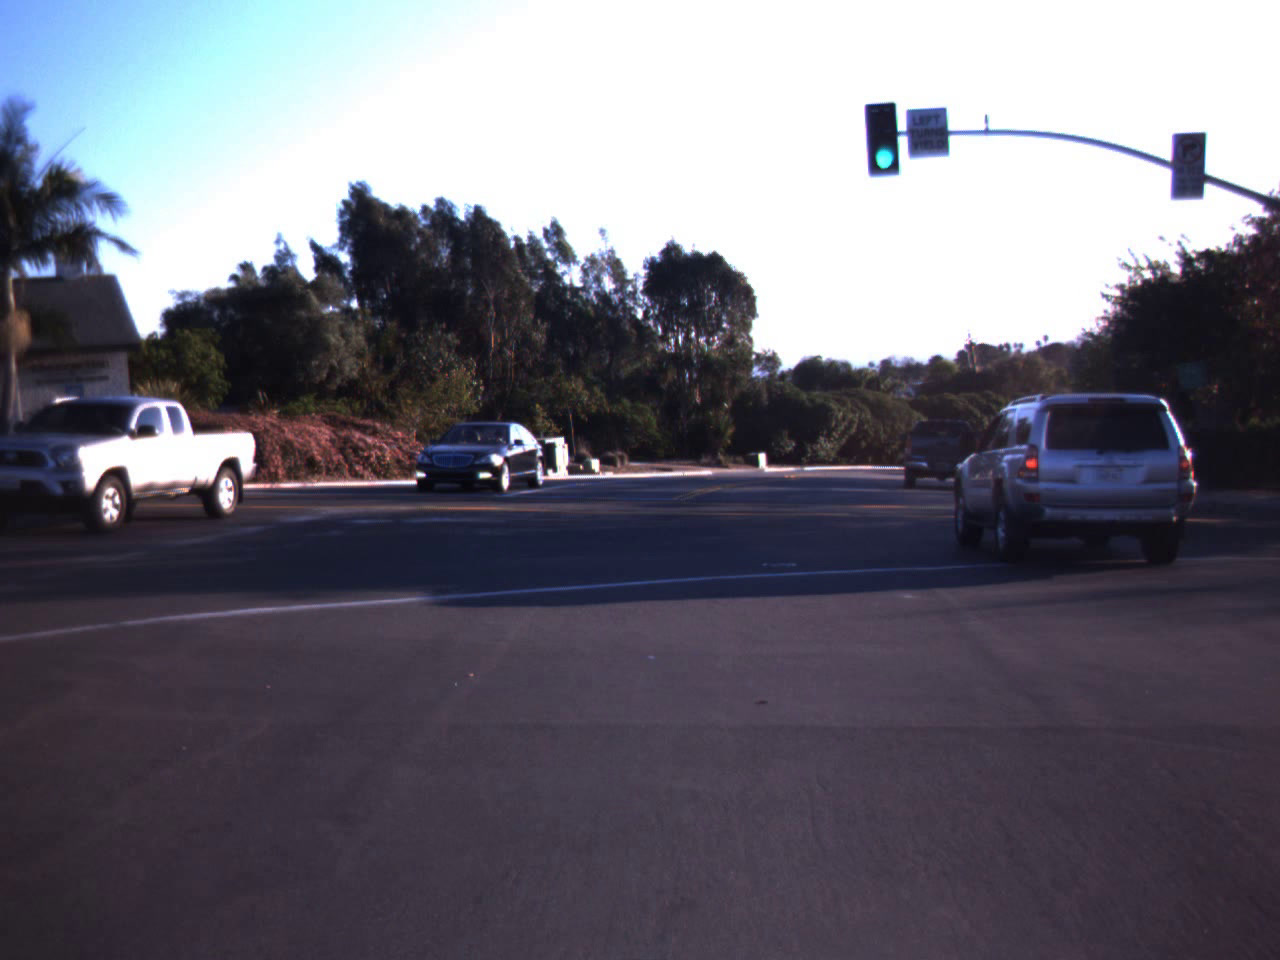go: (862, 87, 907, 177)
